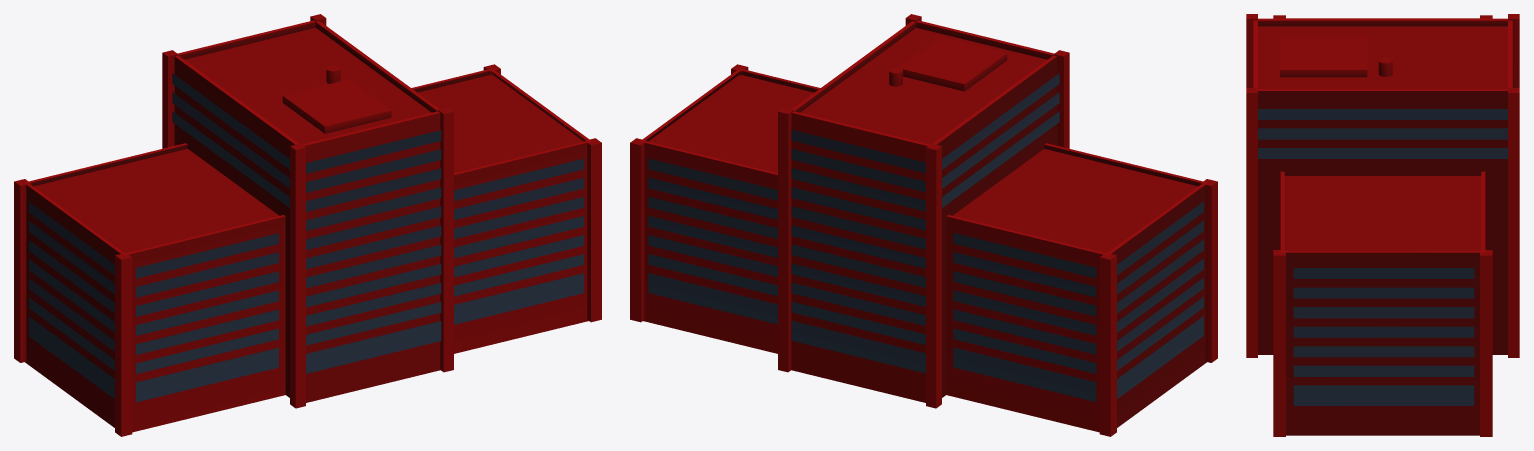
File: RC_ComBuilding12.fbx
3 renders of one model, left to right at view 1: azimuth 30°, elevation 25°; view 2: azimuth 150°, elevation 25°; view 3: azimuth 270°, elevation 25°, orthographic. The views are drawn at different scales.
Parts seen in each view (by area): view 1: base.031, windowRefl.014; view 2: base.031, windowRefl.014; view 3: base.031, windowRefl.014.
Part boxes in pixels (bbox=[...]): base.031: bbox=[14, 14, 601, 436]; windowRefl.014: bbox=[29, 73, 583, 402]; base.031: bbox=[630, 14, 1217, 436]; windowRefl.014: bbox=[648, 73, 1203, 401]; base.031: bbox=[1246, 14, 1519, 436]; windowRefl.014: bbox=[1258, 109, 1507, 405].
Bounding box in the file's own units: 4838 × 2549 × 2325.
